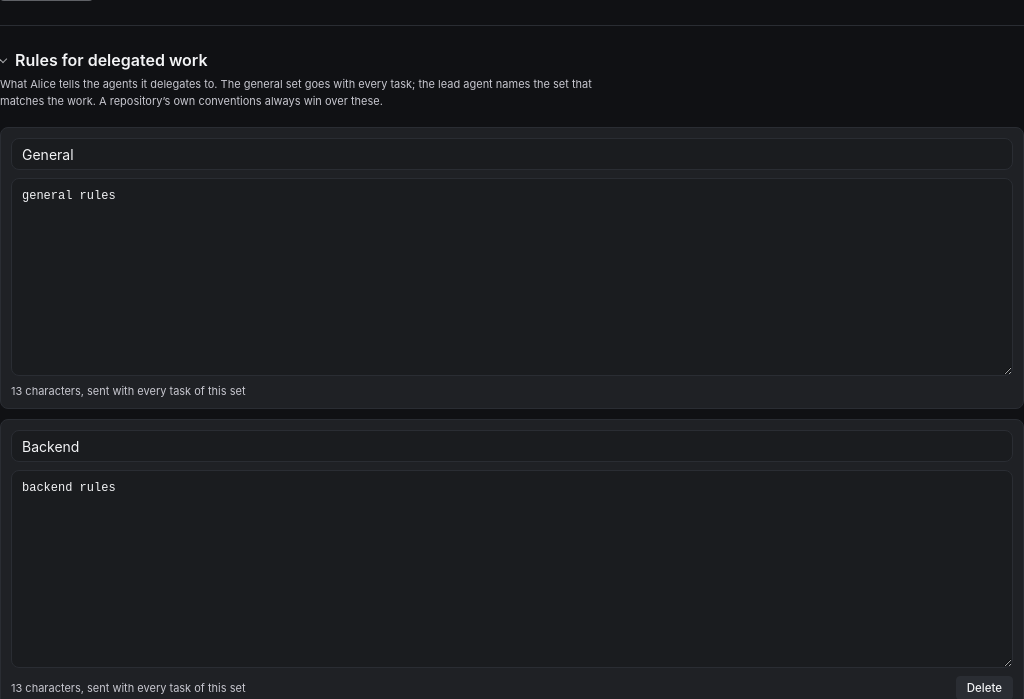
rule set names stay unique › refuses a duplicate name, restores the previous one and explains why
This screenshot has width=1024, height=699.
(page scrolled)
Replace the text in the 2nd field named "Set name" with "general" at point(512, 446), box x1=11 y1=430 x2=1013 y2=462
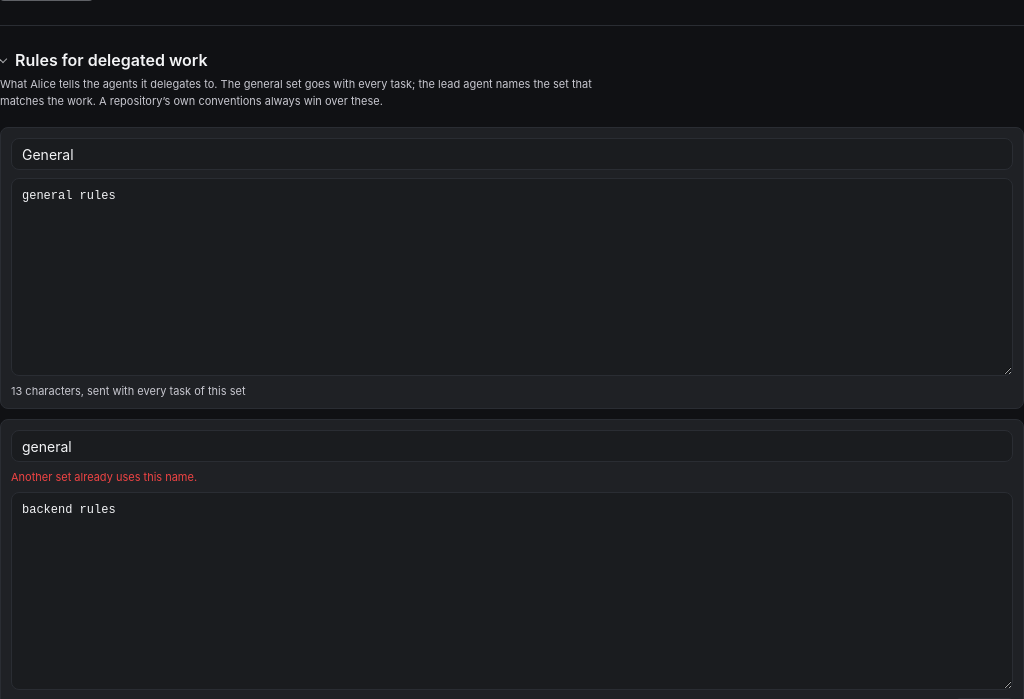
Expected: the 2nd field named "Set name" is marked as invalid
Leave the 2nd field named "Set name", box x1=11 y1=430 x2=1013 y2=462
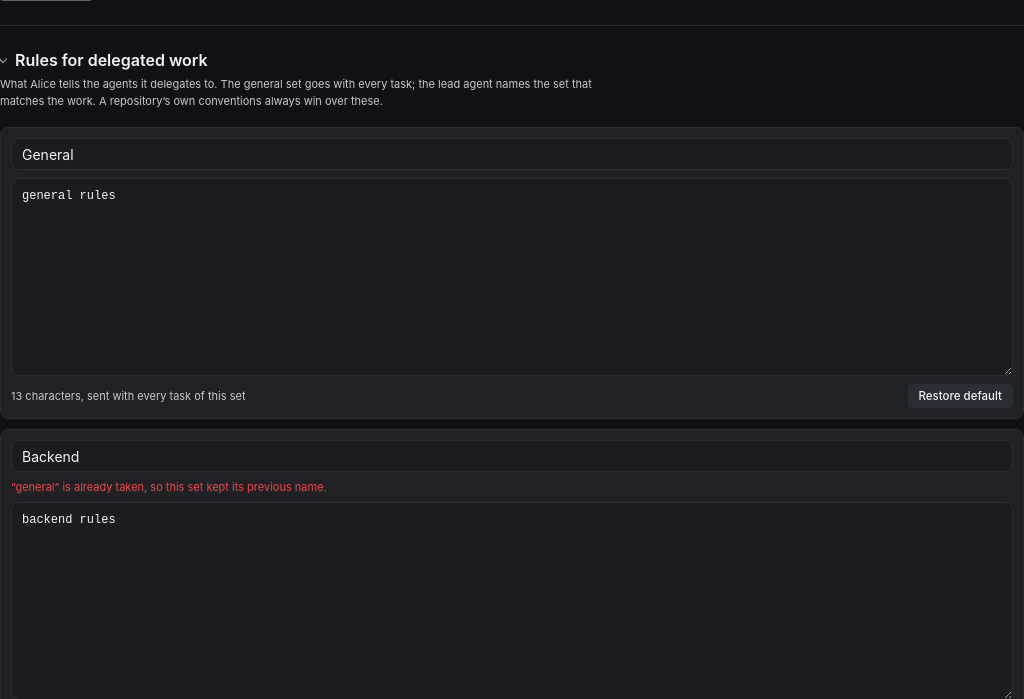
Expected: the 2nd field named "Set name" holds "Backend", x1=11 y1=440 x2=1013 y2=472
Expected: the text "already taken" is shown, x1=11 y1=480 x2=327 y2=494
